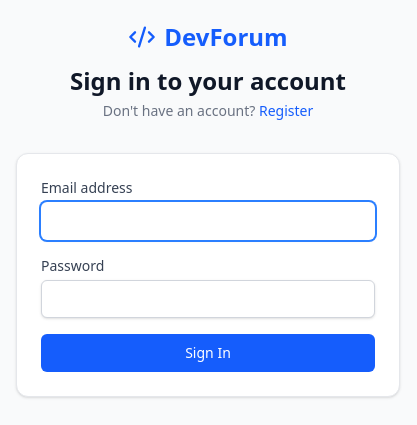
Scenario: LoginPage › shows validation error when password is empty
In the field labelled "Email address": (208, 221) [41, 202, 375, 240], type "test@example.com"
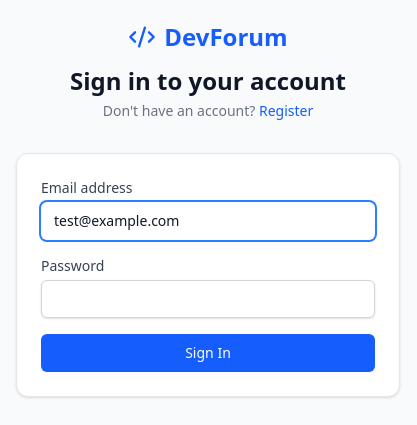
Click the button "Sign In": (208, 353) [41, 334, 375, 372]
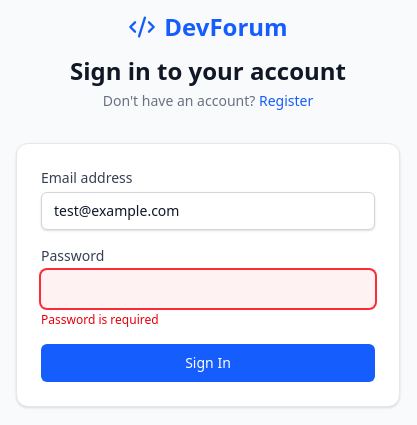
Result: the text "Password is required" is shown at [41, 311, 159, 328]
